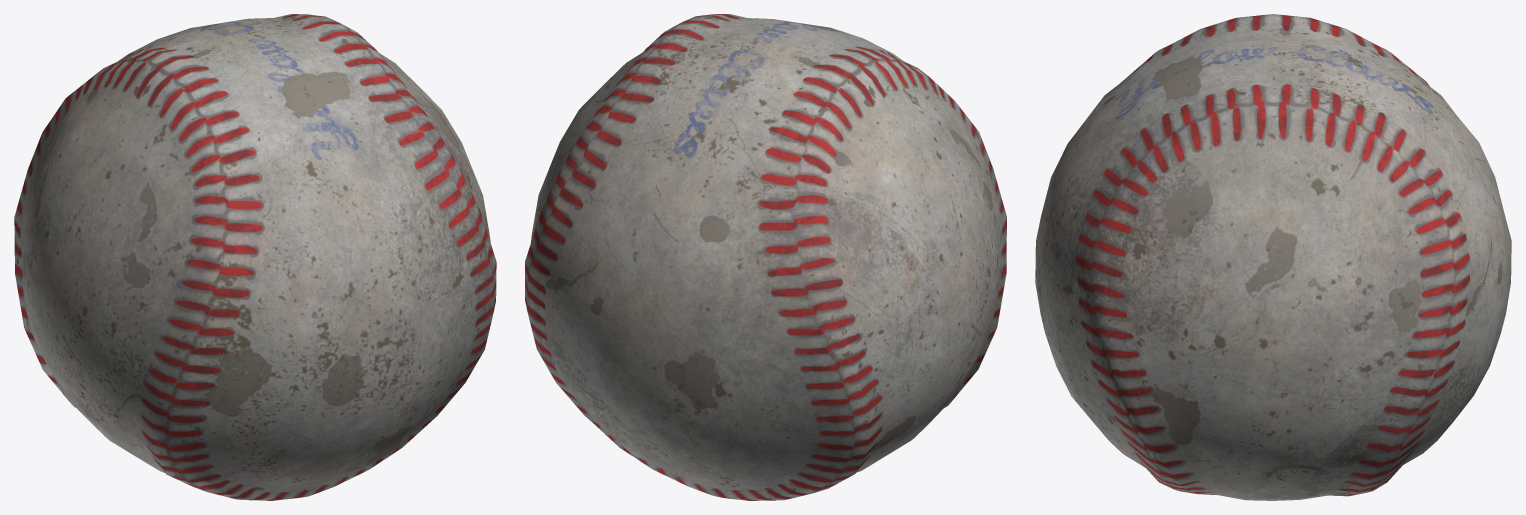
The model's file is Baseball.gltf.
The picture shows the model from 3 angles, left to right: view 1: azimuth 30°, elevation 25°; view 2: azimuth 150°, elevation 25°; view 3: azimuth 270°, elevation 25°; orthographic projection.
Visible parts, largest first — view 1: polySurface5; view 2: polySurface5; view 3: polySurface5.
Part boxes in pixels (x1,y1,x2,y2): polySurface5: (14, 14, 496, 500); polySurface5: (525, 14, 1006, 500); polySurface5: (1035, 14, 1511, 500).
Size of the model in its own units: 0.8078 by 0.8159 by 0.8184.
1 material, 1 textured.
